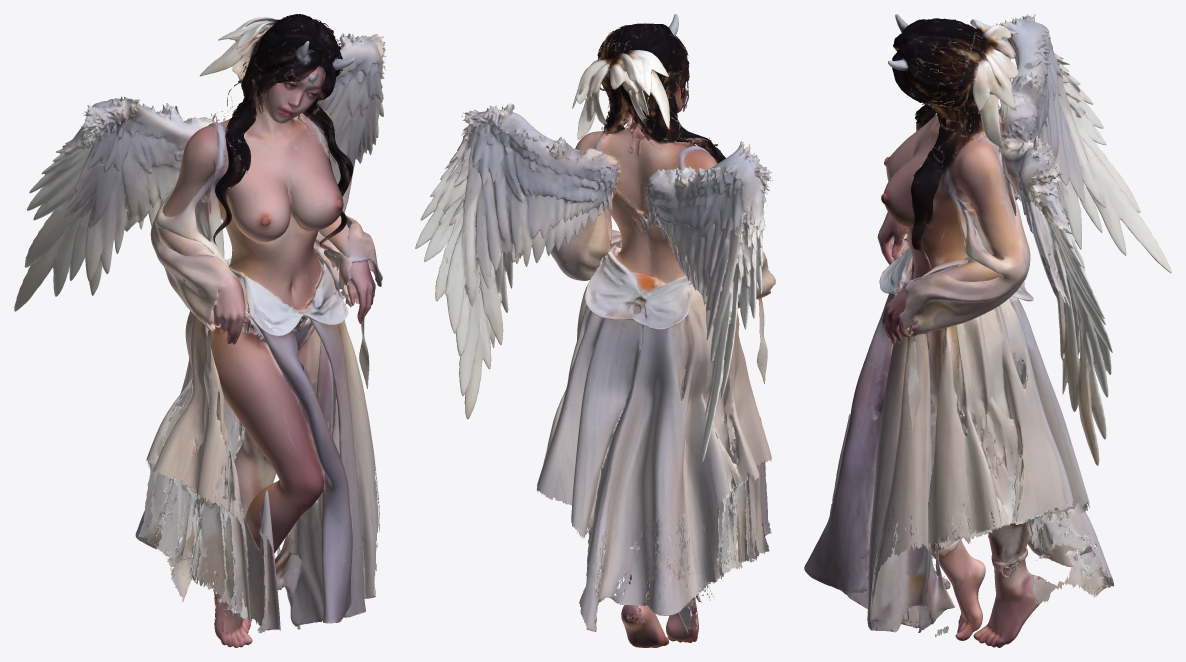
Rendered from evil-angel-woman.glb.
3 renders of one model, left to right at view 1: azimuth 30°, elevation 25°; view 2: azimuth 150°, elevation 25°; view 3: azimuth 270°, elevation 25°, orthographic. The views are drawn at different scales.
Parts seen in each view (by area): view 1: Evil Angel Woman; view 2: Evil Angel Woman; view 3: Evil Angel Woman.
Boxes of the visible parts, left/top/right/bottom form: Evil Angel Woman: left=14, top=14, right=386, bottom=647; Evil Angel Woman: left=415, top=14, right=775, bottom=647; Evil Angel Woman: left=804, top=14, right=1171, bottom=647.
Bounding box in the file's own units: 1.13 × 1.9 × 0.9853.
Materials: 1 (1 with a texture image).
